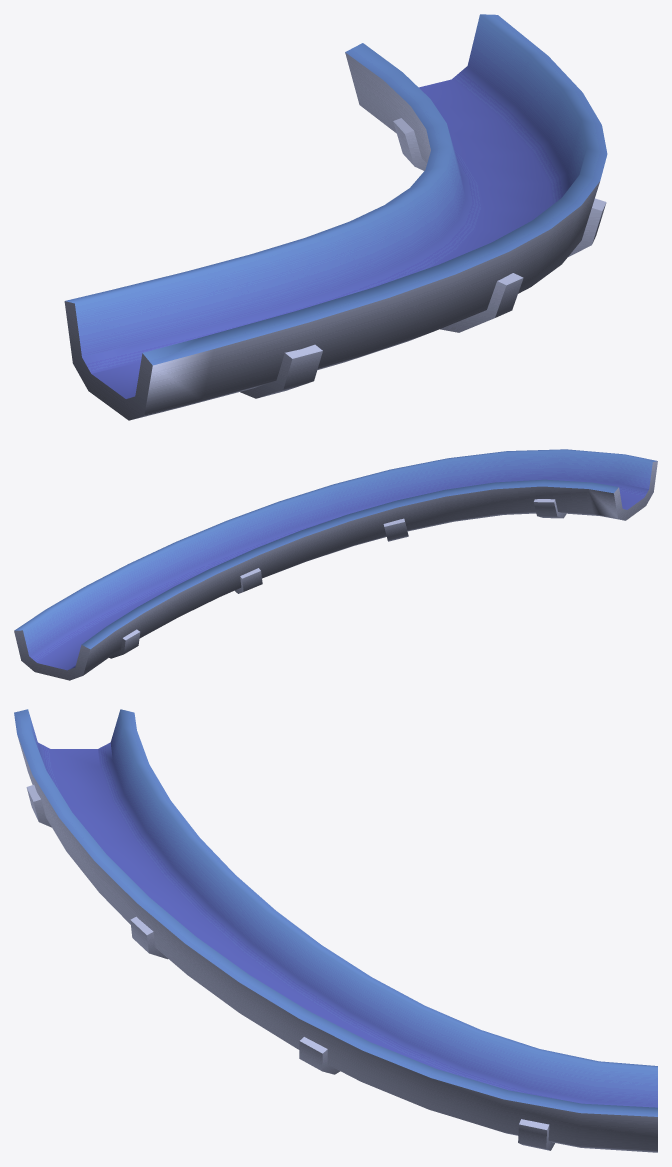
The model's file is coaster-flume-corner-large-ramp.glb.
The picture shows the model from 3 angles, top to bottom: view 1: azimuth 30°, elevation 25°; view 2: azimuth 150°, elevation 25°; view 3: azimuth 270°, elevation 25°; orthographic projection. The views are drawn at different scales.
Visible parts, largest first — view 1: coaster-flume-corner-large-ramp; view 2: coaster-flume-corner-large-ramp; view 3: coaster-flume-corner-large-ramp.
Part boxes in pixels (left/top/right/bottom): coaster-flume-corner-large-ramp: left=64, top=14, right=607, bottom=420; coaster-flume-corner-large-ramp: left=14, top=449, right=657, bottom=680; coaster-flume-corner-large-ramp: left=14, top=709, right=657, bottom=1152.
Bounding box in the file's own units: 13.24 × 4.26 × 13.24.
Materials: 1 (1 with a texture image).
